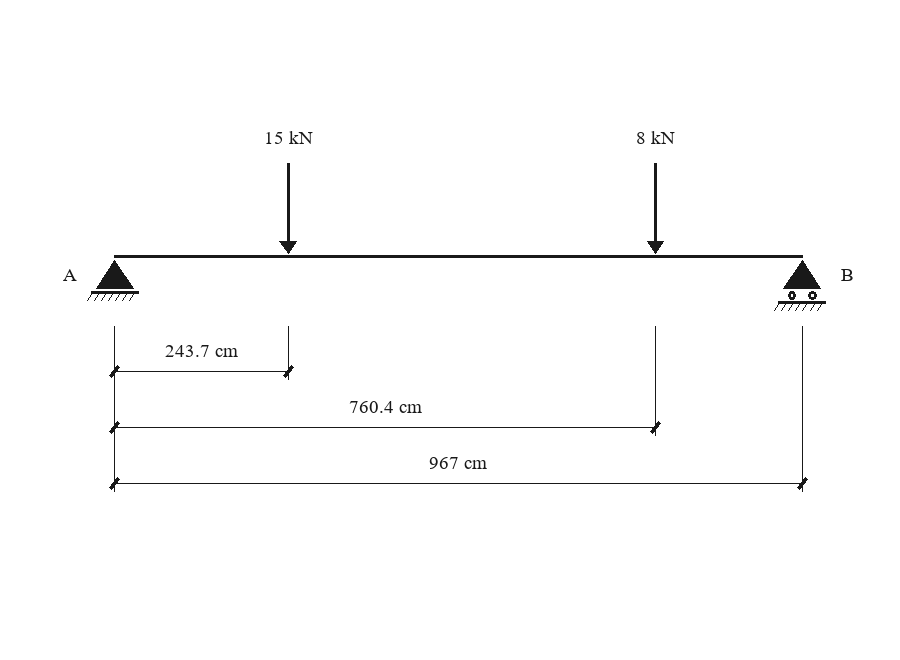pin_support: (87, 260, 139, 301)
point_load: (279, 163, 297, 254), (647, 163, 664, 254)
roller_support: (774, 260, 826, 311)
